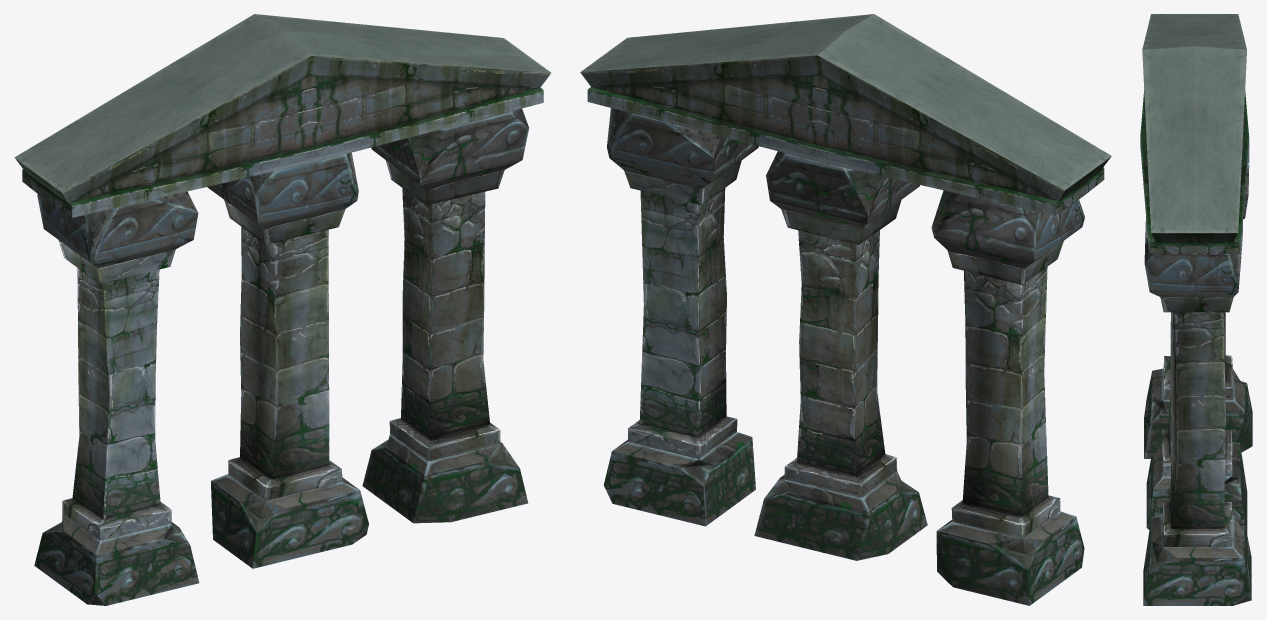
File: stemple_pediment_04.fbx
The picture shows the model from 3 angles, left to right: view 1: azimuth 30°, elevation 25°; view 2: azimuth 150°, elevation 25°; view 3: azimuth 270°, elevation 25°; orthographic projection. The views are drawn at different scales.
Visible parts, largest first — view 1: stemple_pediment_04-0; view 2: stemple_pediment_04-0; view 3: stemple_pediment_04-0.
Part boxes in pixels (x1,y1,x2,y2): stemple_pediment_04-0: (14,14,550,605); stemple_pediment_04-0: (580,14,1111,605); stemple_pediment_04-0: (1140,14,1252,605).
Bounding box in the file's own units: 7.17 × 7.06 × 1.55.
